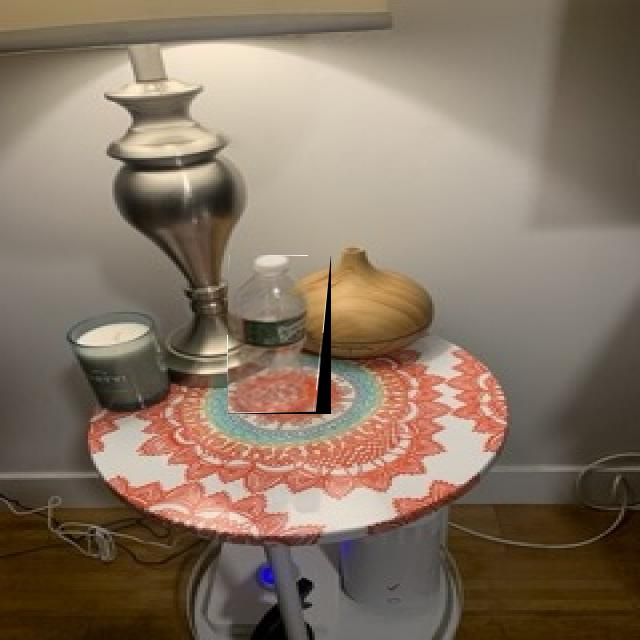water_bottle: (228, 256, 331, 414)
